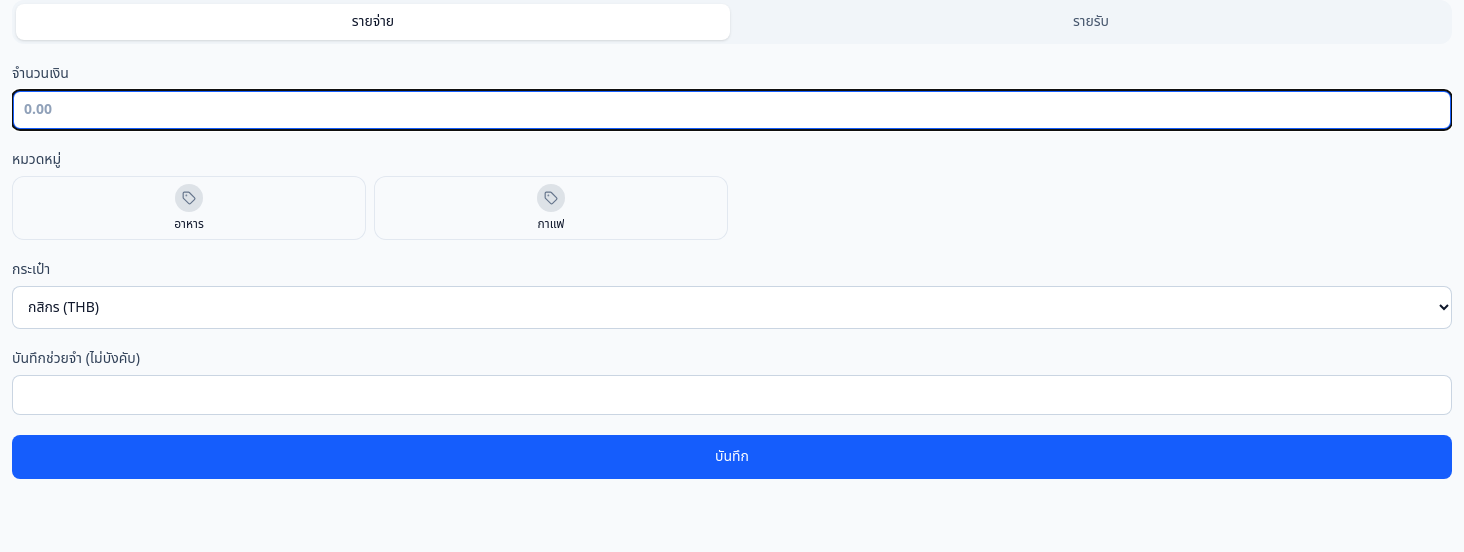
Test: <QuickAddForm> › shows a server error from the API next to the field
In the field labelled "จำนวนเงิน": {"x": 732, "y": 110} [12,90,1452,130], type "10"
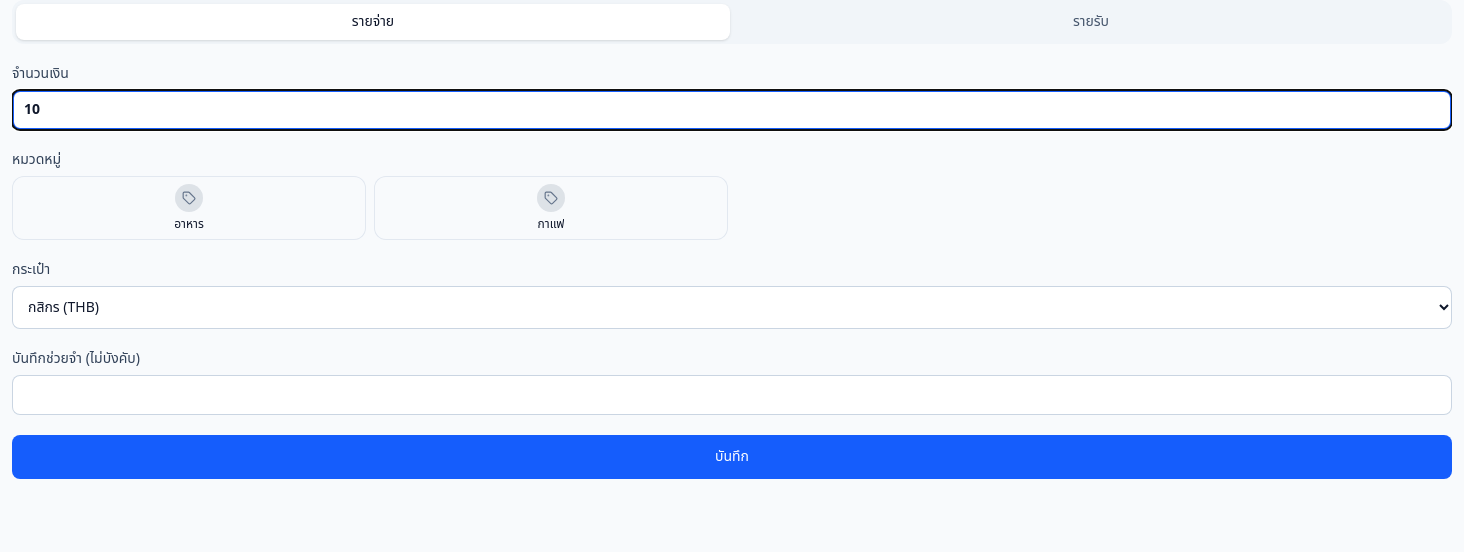
Click the button "อาหาร": {"x": 189, "y": 208} [12,176,366,240]
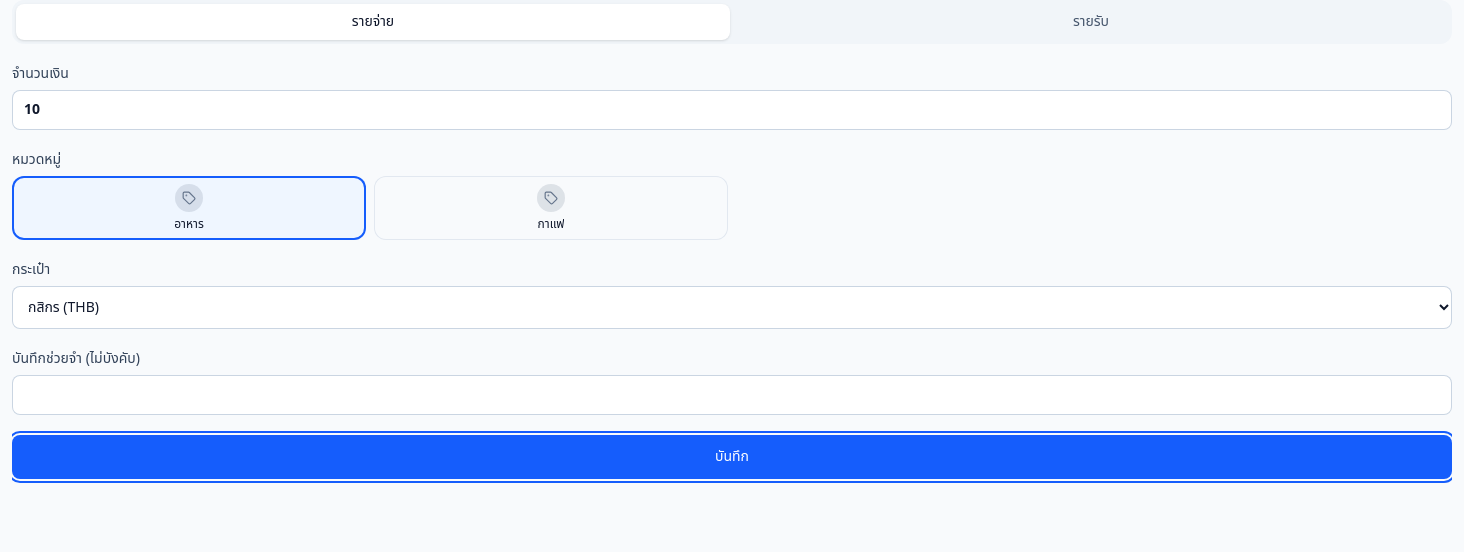
Click the button "บันทึก": {"x": 732, "y": 457} [12,435,1452,479]
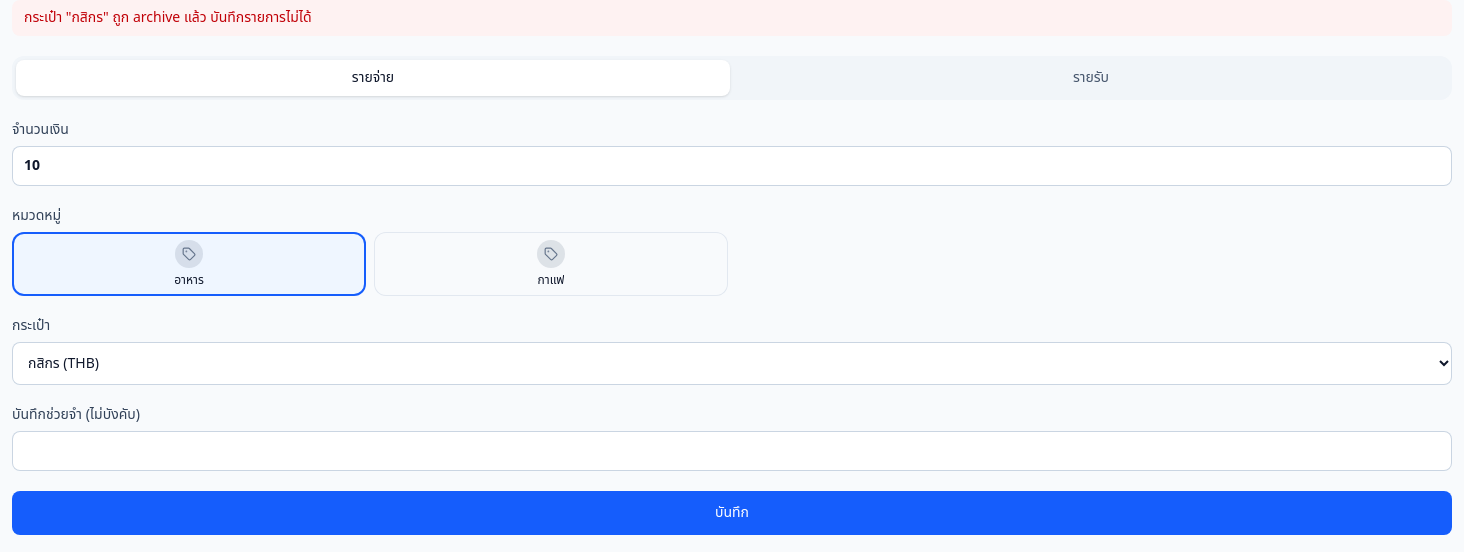
Check: the message shows "ถูก archive แล้ว", box [24,7,312,28]
